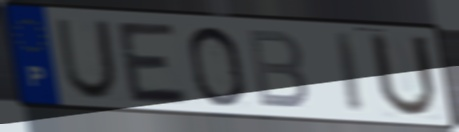B: (244, 27, 311, 112)
E: (113, 19, 193, 108)
I: (332, 30, 367, 116)
O: (184, 23, 248, 109)
U: (366, 29, 441, 122), (53, 17, 121, 103)
